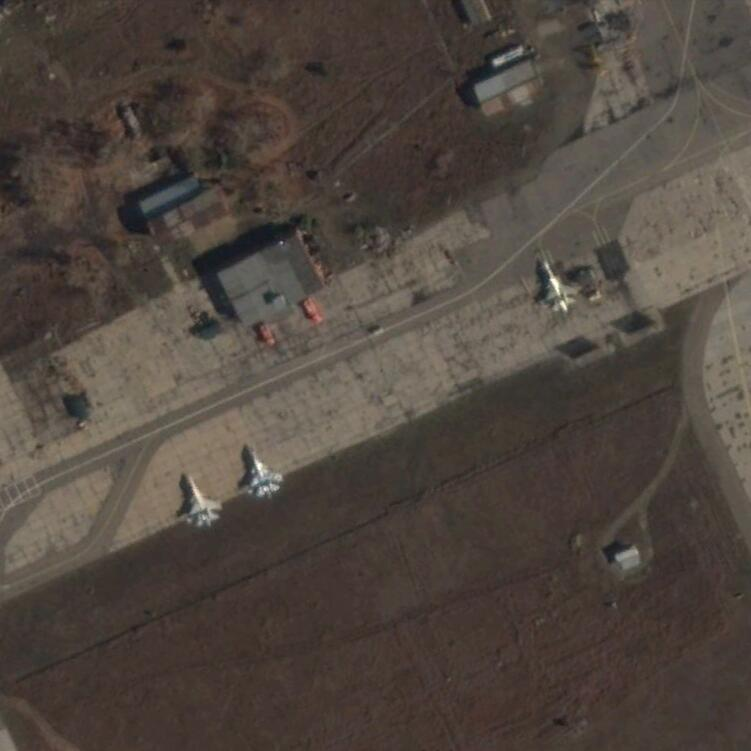A19: (537, 259, 581, 316), (239, 447, 286, 500), (177, 472, 222, 527)
